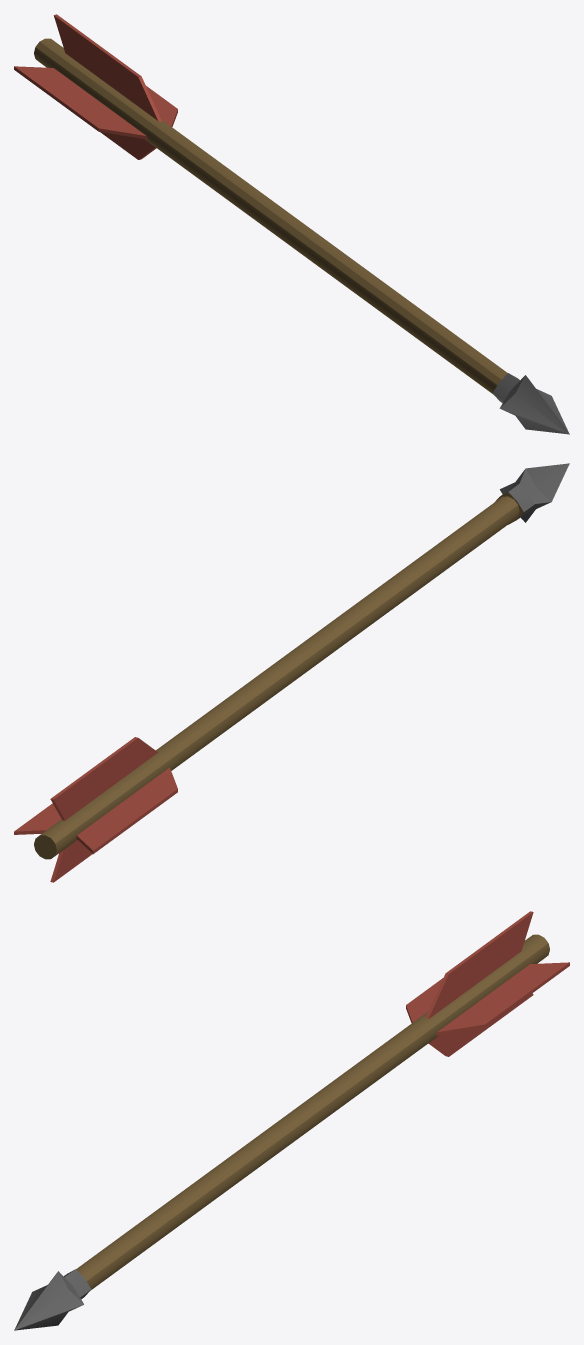
The model's file is Arrow.fbx.
3 renders of one model, top to bottom at view 1: azimuth 30°, elevation 25°; view 2: azimuth 150°, elevation 25°; view 3: azimuth 330°, elevation 25°, orthographic.
Parts seen in each view (by area): view 1: Arrow; view 2: Arrow; view 3: Arrow.
Part boxes in pixels (x1,y1,x2,y2): Arrow: (14,14,569,434); Arrow: (14,463,569,882); Arrow: (14,911,569,1330).
Size of the model in its own units: 0.0404 by 0.4634 by 0.0404.
